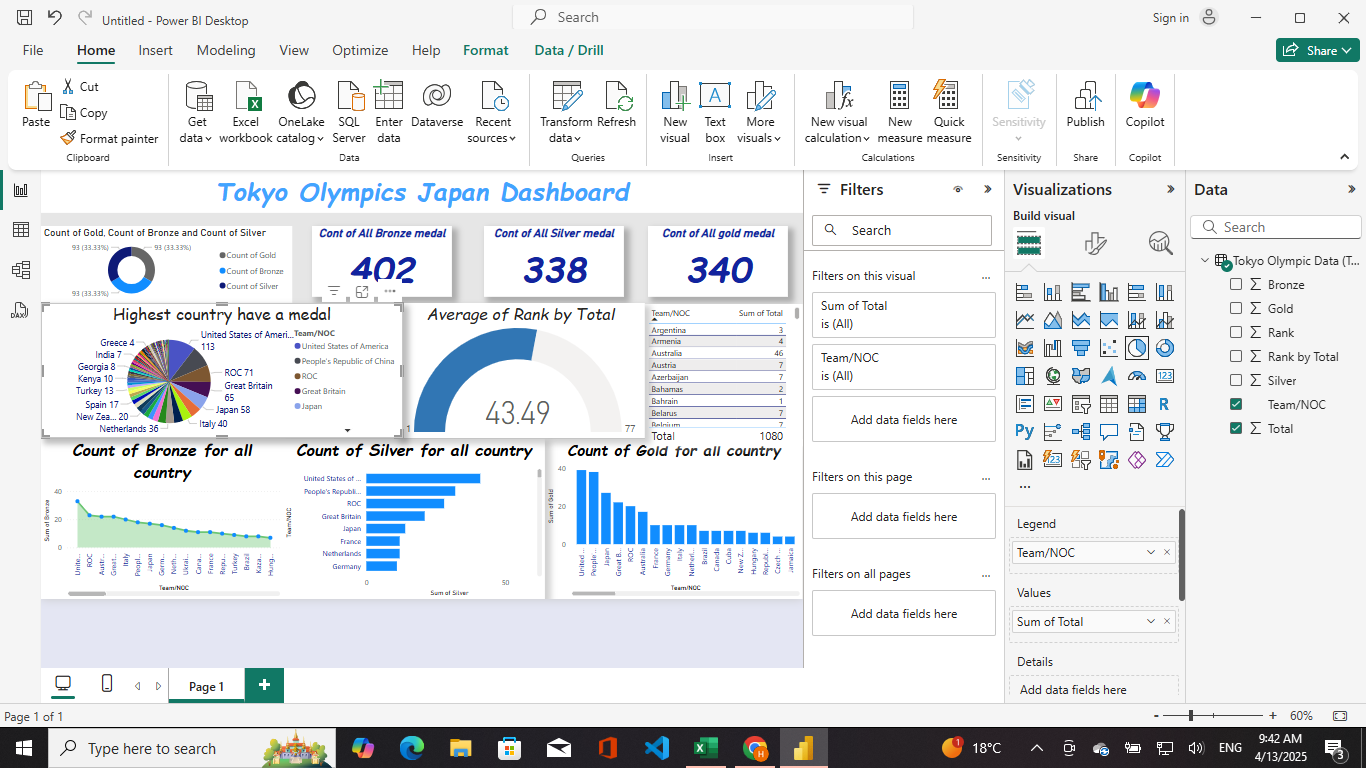

Layout of this report page (visuals, bound fields, positions):
{"tool":"powerbi","page":{"name":"Page 1","canvas":[1280,720],"ordinal":0},"visuals":[{"type":"clusteredColumnChart","title":"Count of Gold for all country","fields":{"Category":["Tokyo Olympic Data (Tokyo Olympic).Team/NOC"],"Y":["Sum(Tokyo Olympic Data (Tokyo Olympic).Gold)"]},"box":[431.7,451.9,582.9,268.8],"z":0},{"type":"clusteredBarChart","title":"Count of Silver for all country","fields":{"Category":["Tokyo Olympic Data (Tokyo Olympic).Team/NOC"],"Y":["Sum(Tokyo Olympic Data (Tokyo Olympic).Silver)"]},"box":[0,451.9,431.7,268.8],"z":1000},{"type":"barChart","title":"Count of Bronze for all country","fields":{"Category":["Tokyo Olympic Data (Tokyo Olympic).Team/NOC"],"Y":["Sum(Tokyo Olympic Data (Tokyo Olympic).Bronze)"]},"box":[0,77.3,305.7,378],"z":2000},{"type":"card","title":"Cont of All gold medal","fields":{"Values":["Sum(Tokyo Olympic Data (Tokyo Olympic).Gold)"]},"box":[1045.3,76.6,234.2,118.6],"z":3000},{"type":"textbox","box":[0,0,1280,72.2],"z":4000},{"type":"card","title":"Cont of All Silver medal","fields":{"Values":["Sum(Tokyo Olympic Data (Tokyo Olympic).Silver)"]},"box":[809.6,76.6,235.7,118.6],"z":5000},{"type":"card","title":"Cont of All Bronze medal","fields":{"Values":["Sum(Tokyo Olympic Data (Tokyo Olympic).Bronze)"]},"box":[574,76.6,235.7,118.6],"z":6000},{"type":"waterfallChart","title":"Highest country have a medal","fields":{"Category":["Tokyo Olympic Data (Tokyo Olympic).Team/NOC"],"Y":["Sum(Tokyo Olympic Data (Tokyo Olympic).Total)"]},"box":[305.1,205.3,678.1,242.9],"z":7000},{"type":"tableEx","title":"Count of Gold for all country","fields":{"Values":["Tokyo Olympic Data (Tokyo Olympic).Team/NOC","Sum(Tokyo Olympic Data (Tokyo Olympic).Total)"]},"box":[1014.6,458.6,265.4,262],"z":8000},{"type":"donutChart","title":"percentage of all medel ","fields":{"Y":["CountNonNull(Tokyo Olympic Data (Tokyo Olympic).Gold)","CountNonNull(Tokyo Olympic Data (Tokyo Olympic).Bronze)","CountNonNull(Tokyo Olympic Data (Tokyo Olympic).Silver)"]},"box":[305.1,76.6,257.3,118.6],"z":9000},{"type":"gauge","title":"Average of Rank by Total","fields":{"Y":["Avg(Tokyo Olympic Data (Tokyo Olympic).Rank by Total)"],"MinValue":["Min(Tokyo Olympic Data (Tokyo Olympic).Rank by Total)1"],"MaxValue":["Max(Tokyo Olympic Data (Tokyo Olympic).Rank by Total)2"]},"box":[982.7,204.9,297.3,243.6],"z":10000}]}

Visuals, with their boxes on the page's 1280x720 design canvas (x1, y1, x2, y2). These are canvas units, not pixel positions in the 1366x768 screenshot, which may show the page scaled, cropped or inside an application window:
"Count of Gold for all country" clusteredColumnChart: {"x1": 432, "y1": 452, "x2": 1015, "y2": 721}
"Count of Silver for all country" clusteredBarChart: {"x1": 0, "y1": 452, "x2": 432, "y2": 721}
"Count of Bronze for all country" barChart: {"x1": 0, "y1": 77, "x2": 306, "y2": 455}
"Cont of All gold medal" card: {"x1": 1045, "y1": 77, "x2": 1280, "y2": 195}
textbox: {"x1": 0, "y1": 0, "x2": 1280, "y2": 72}
"Cont of All Silver medal" card: {"x1": 810, "y1": 77, "x2": 1045, "y2": 195}
"Cont of All Bronze medal" card: {"x1": 574, "y1": 77, "x2": 810, "y2": 195}
"Highest country have a medal" waterfallChart: {"x1": 305, "y1": 205, "x2": 983, "y2": 448}
"Count of Gold for all country" tableEx: {"x1": 1015, "y1": 459, "x2": 1280, "y2": 721}
"percentage of all medel " donutChart: {"x1": 305, "y1": 77, "x2": 562, "y2": 195}
"Average of Rank by Total" gauge: {"x1": 983, "y1": 205, "x2": 1280, "y2": 448}
